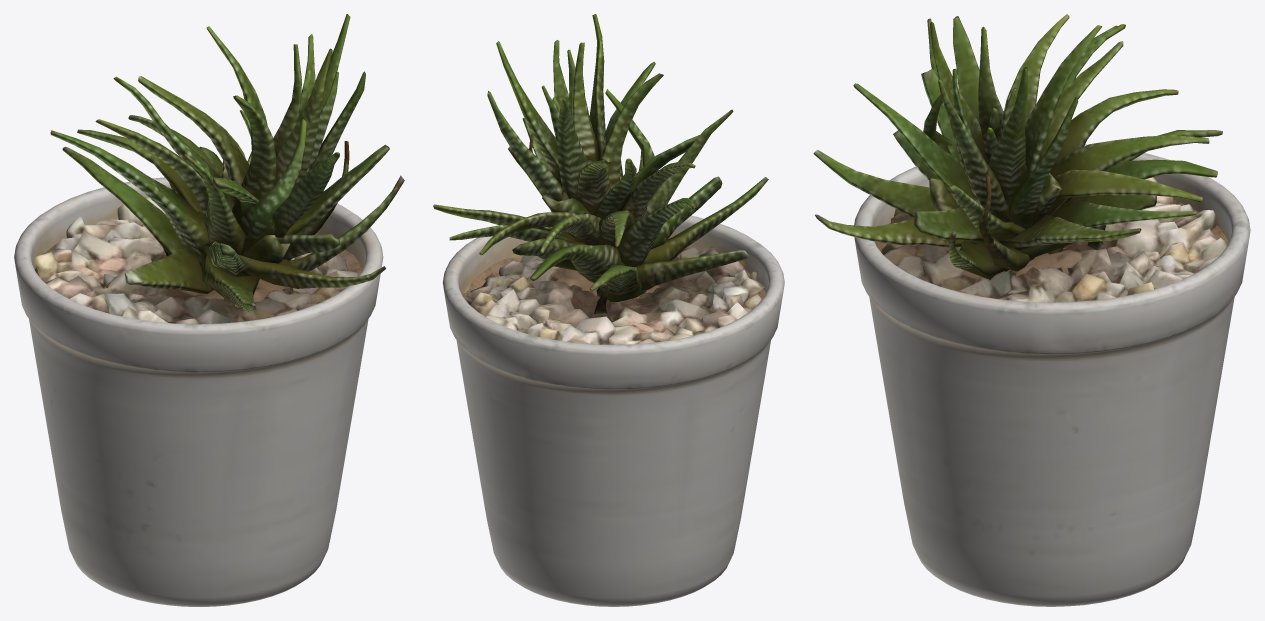
Rendered from potted_plant_04.glb.
3 views of the same model, side by side, from view 1: azimuth 30°, elevation 25°; view 2: azimuth 150°, elevation 25°; view 3: azimuth 270°, elevation 25° (orthographic). The views are drawn at different scales.
Visible parts, largest first — view 1: potted_plant_04_pot, potted_plant_04_plant, potted_plant_04_ground, potted_plant_04_dirt; view 2: potted_plant_04_pot, potted_plant_04_plant, potted_plant_04_ground, potted_plant_04_dirt; view 3: potted_plant_04_pot, potted_plant_04_plant, potted_plant_04_ground, potted_plant_04_dirt.
Boxes of the visible parts, box(x1,y1,x2,y2) form: potted_plant_04_pot: box(14, 177, 383, 606); potted_plant_04_plant: box(50, 14, 404, 311); potted_plant_04_ground: box(34, 197, 358, 324); potted_plant_04_dirt: box(34, 237, 362, 307); potted_plant_04_pot: box(442, 215, 784, 606); potted_plant_04_plant: box(433, 14, 768, 314); potted_plant_04_ground: box(463, 247, 765, 344); potted_plant_04_dirt: box(462, 247, 765, 306); potted_plant_04_pot: box(854, 144, 1250, 606); potted_plant_04_plant: box(813, 14, 1222, 279); potted_plant_04_ground: box(881, 177, 1227, 302); potted_plant_04_dirt: box(875, 200, 1228, 297).
Bounding box in the file's own units: 0.1679 × 0.2675 × 0.1848.
Materials: 1 (1 with a texture image).
